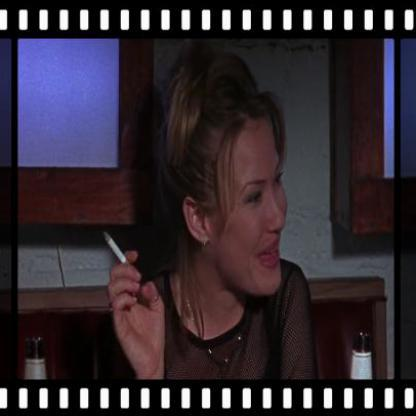cigarette: (103, 227, 131, 267)
person: (129, 61, 318, 380)
